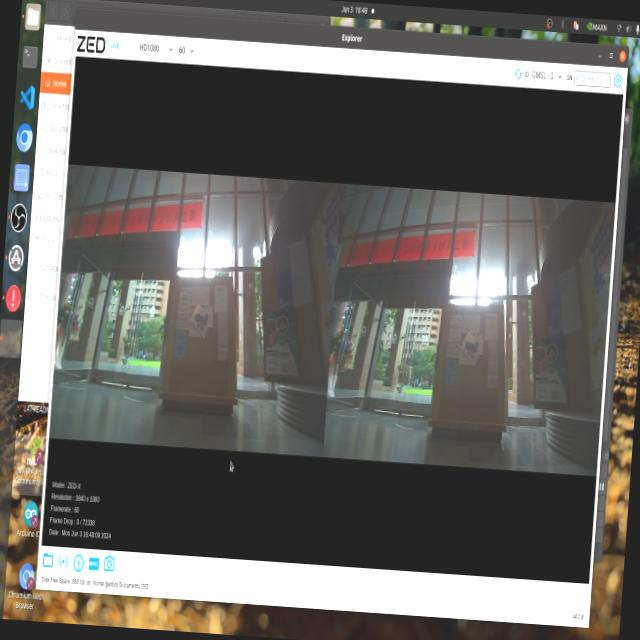blue: (185, 298, 211, 336), (464, 336, 484, 362)
